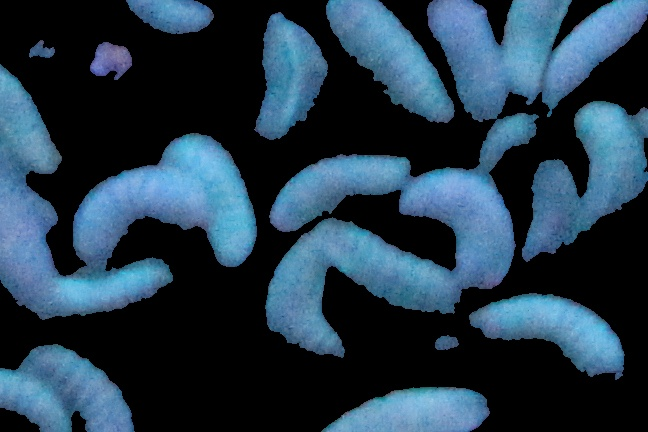larvae: (323, 1, 448, 135), (469, 294, 625, 383), (403, 169, 515, 287), (323, 218, 457, 314), (166, 135, 260, 268), (53, 168, 198, 253), (268, 242, 353, 386), (560, 100, 648, 236), (269, 152, 411, 231), (20, 343, 136, 432), (549, 2, 648, 96), (433, 1, 504, 131), (247, 16, 319, 143), (56, 260, 181, 325), (326, 389, 501, 432), (521, 150, 582, 272), (502, 1, 582, 91), (1, 188, 54, 322), (1, 63, 60, 170), (1, 367, 76, 432), (118, 1, 225, 35)
